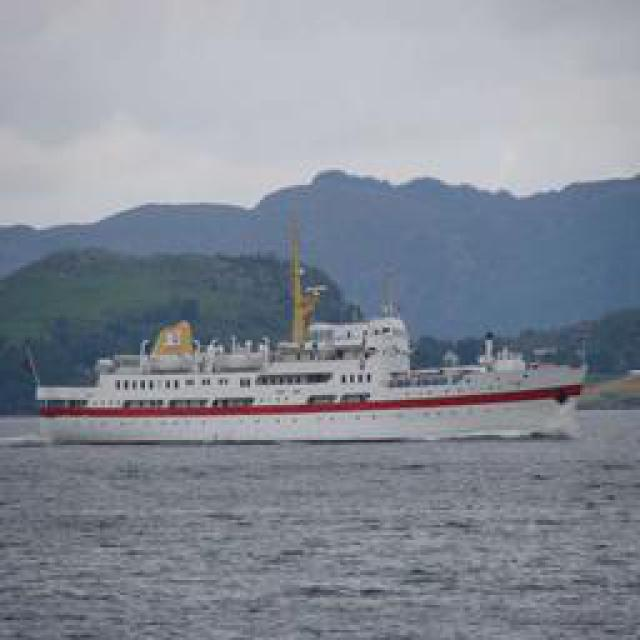Ship: (33, 274, 581, 444)
